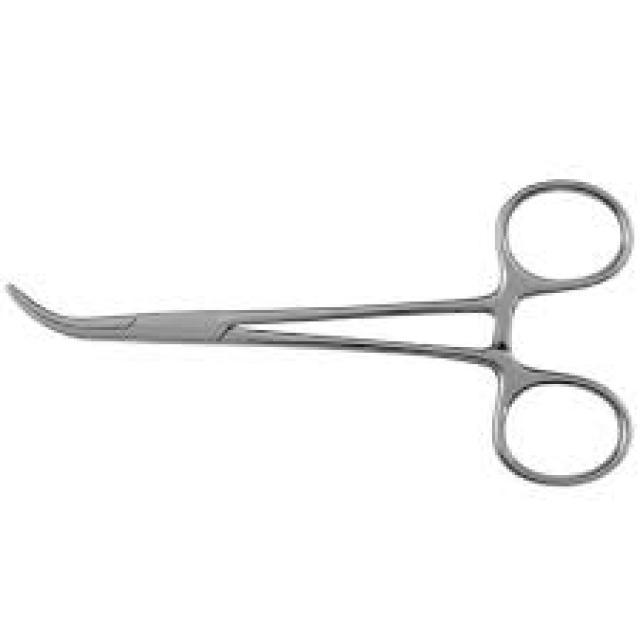Artery Forceps: (5, 171, 636, 487)
